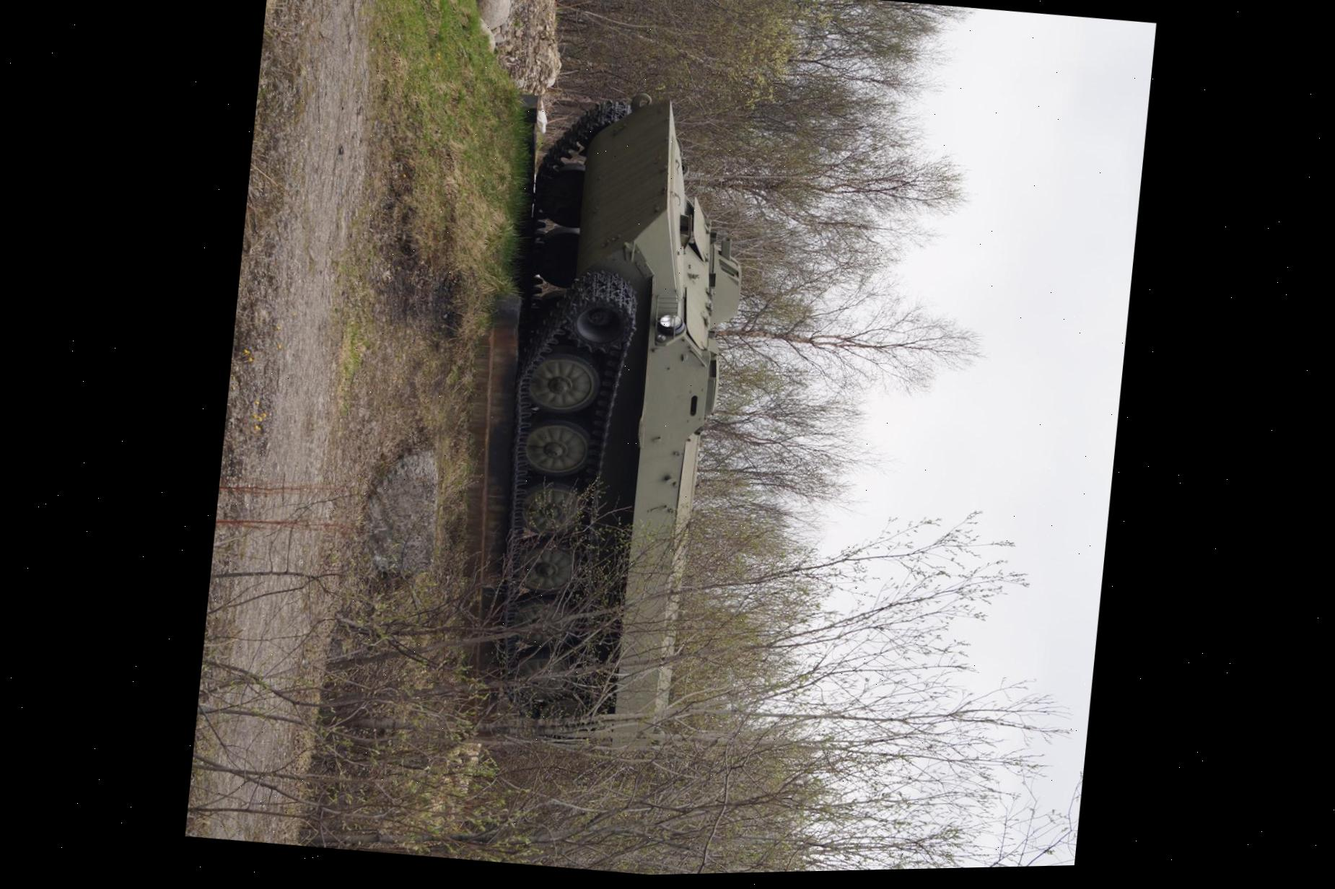tank: (470, 77, 767, 770)
